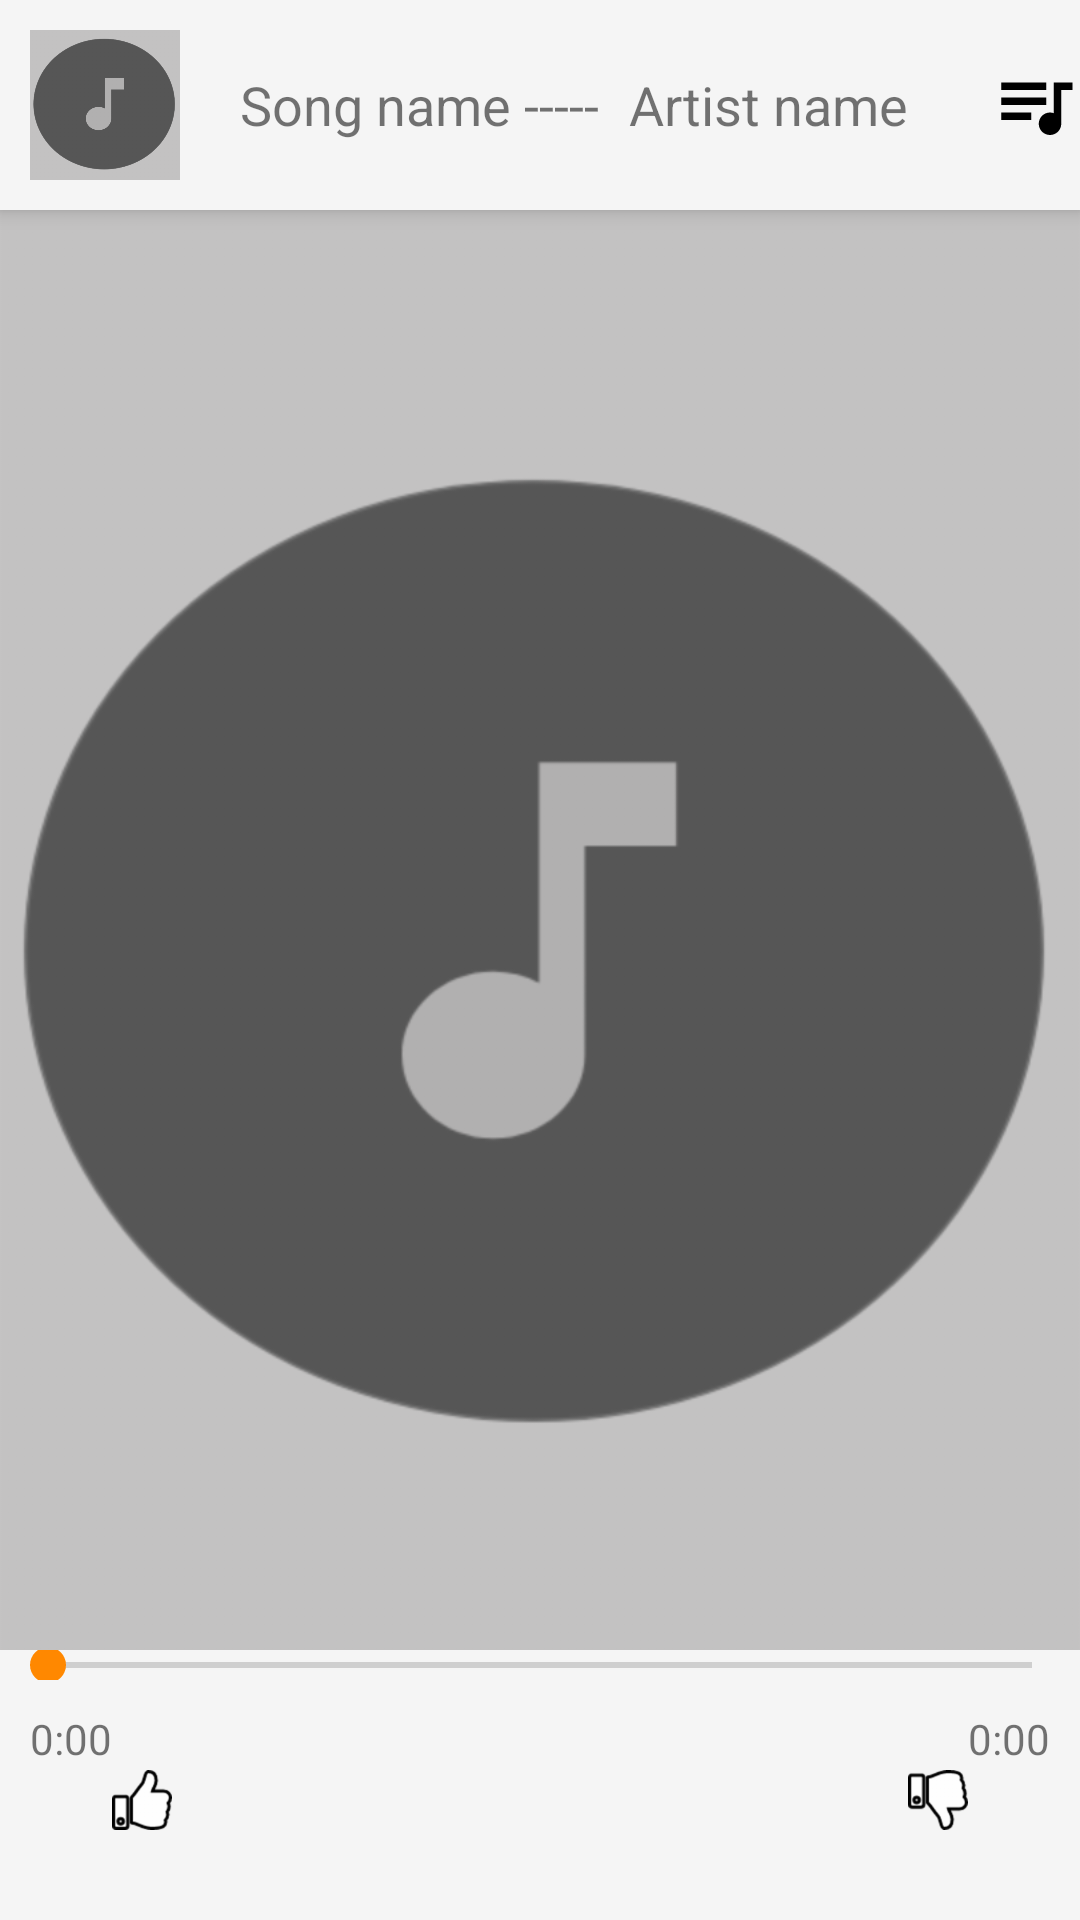

Icons on this 1080px×1920px Android screen, each with its box as {"x1": x1, "y1": y1, "x2": x2, "y2": y2}:
listview music: {"x1": 1001, "y1": 82, "x2": 1073, "y2": 135}
thumbs down: {"x1": 908, "y1": 1770, "x2": 968, "y2": 1830}
thumbs up: {"x1": 112, "y1": 1770, "x2": 172, "y2": 1830}
